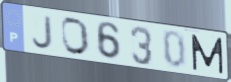0: (161, 30, 188, 70)
3: (129, 24, 154, 67)
6: (95, 20, 123, 62)
J: (31, 14, 54, 51)
M: (190, 33, 226, 76)
O: (60, 16, 92, 57)
